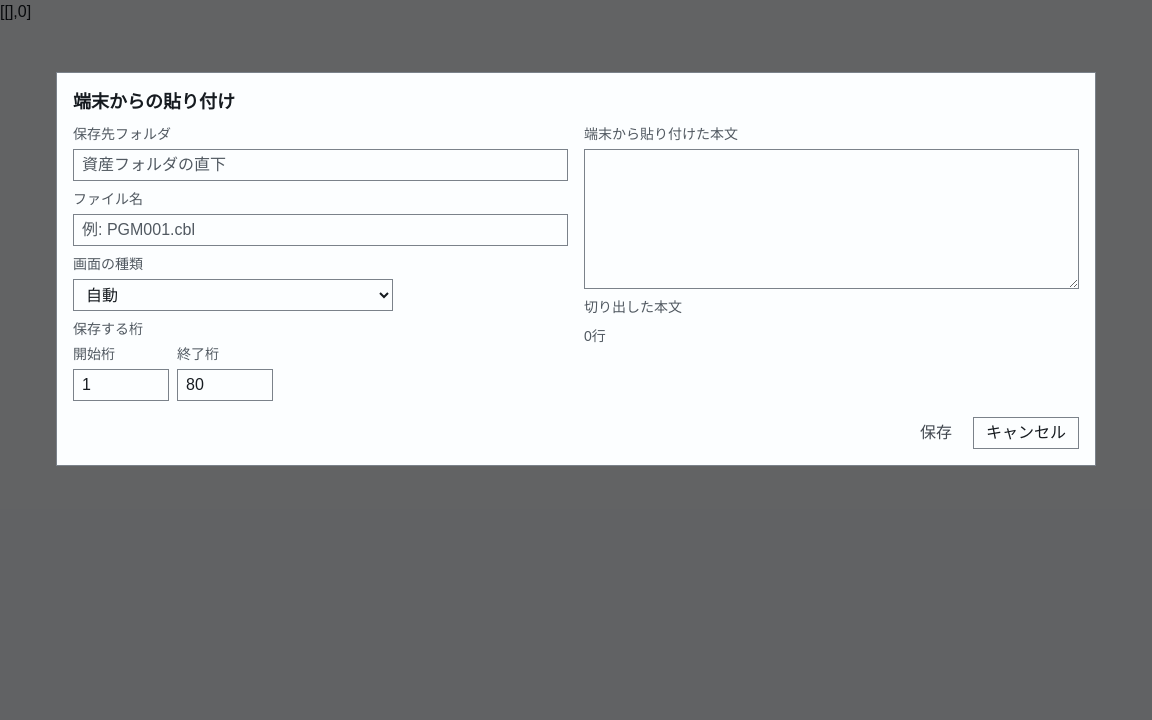
it: ImportDialog › saving › takes the confirmation away when the folder is edited after it was raised
The width and height of the screenshot is (1152, 720).
Type "       IDENTIFICATION DIVISION." into the text box with test id "import-paste".
click(832, 219); type("       IDENTIFICATION DIVISION.")  # box x1=584 y1=149 x2=1079 y2=289
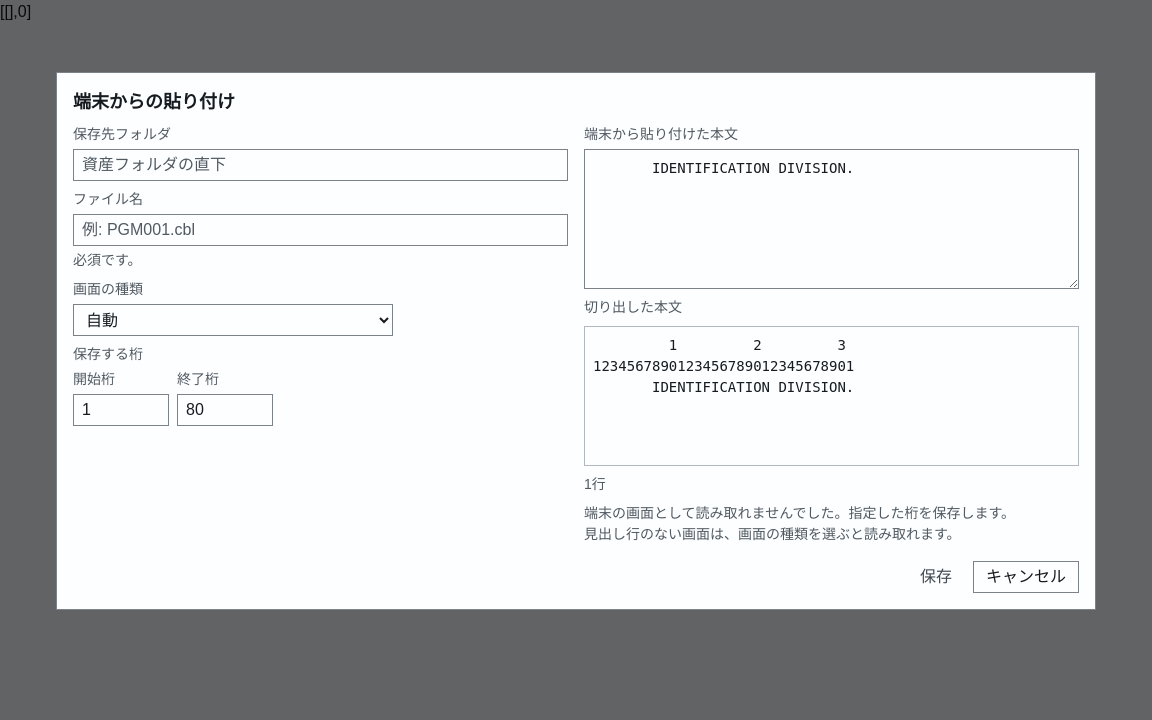
Type "A.cbl" into the field with test id "import-filename".
click(320, 230); type("A.cbl")  # box x1=73 y1=214 x2=568 y2=246
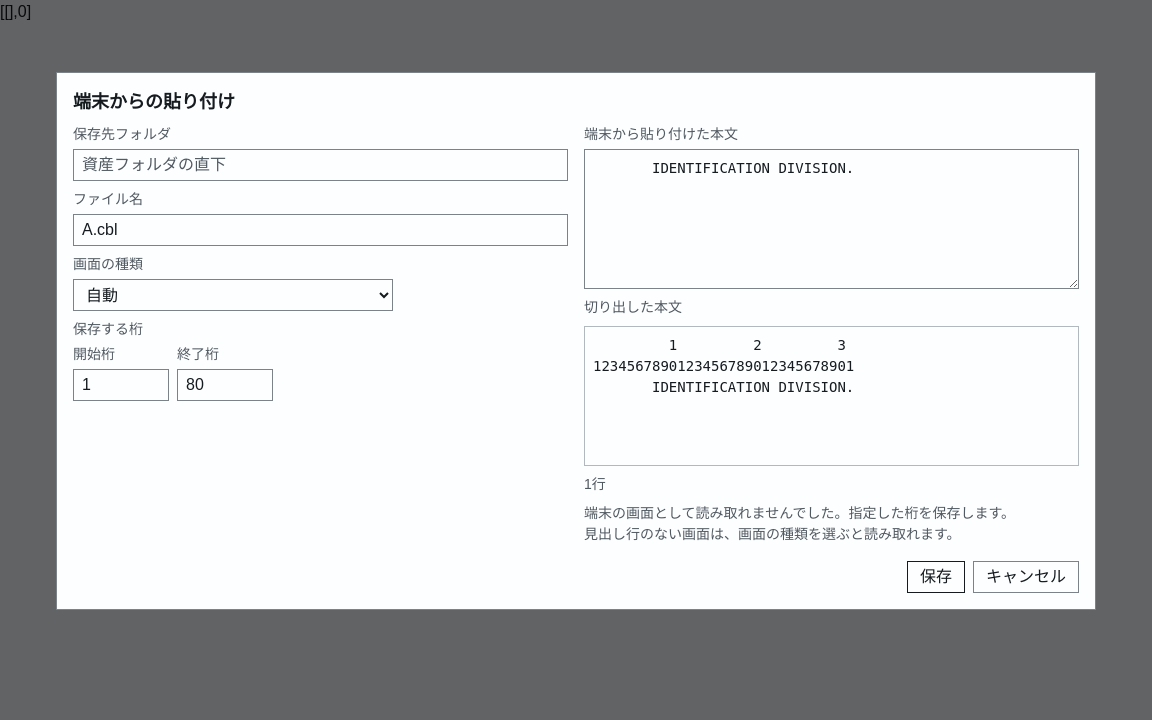
Click the button with test id "import-save".
click(936, 577)  # box x1=907 y1=561 x2=965 y2=593
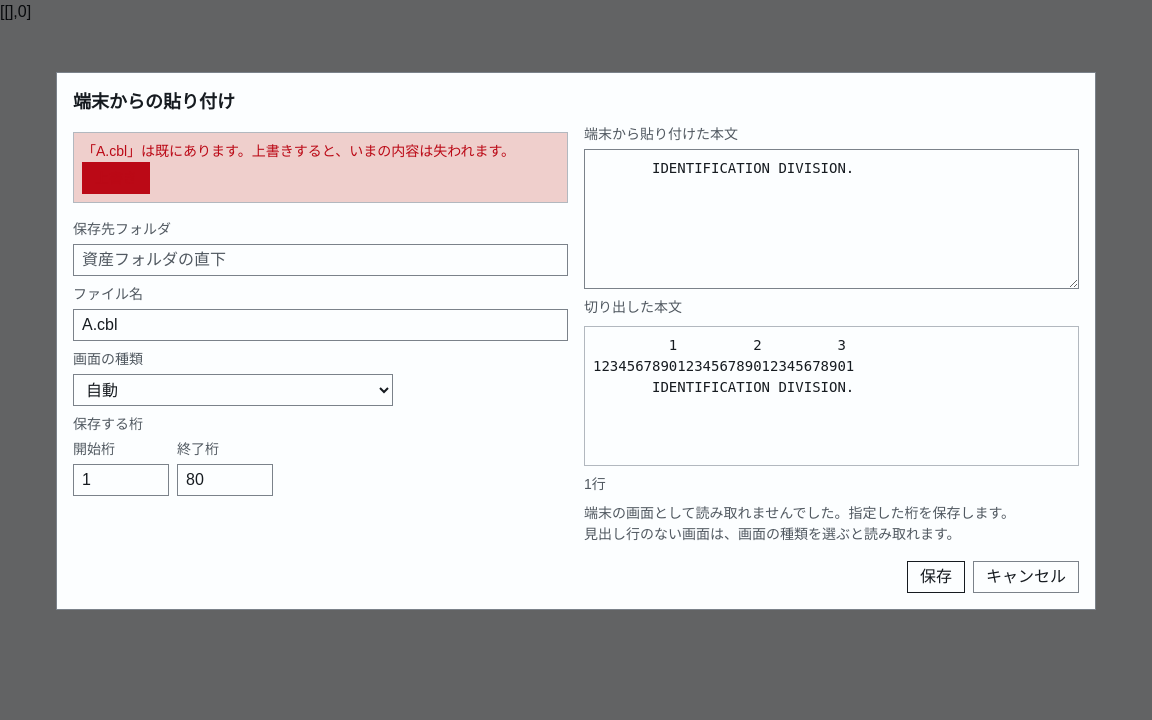
Result: the element with test id "import-confirm" is shown at x1=73 y1=132 x2=568 y2=203
Type "cobol" into the field with test id "import-destdir".
click(320, 260); type("cobol")  # box x1=73 y1=244 x2=568 y2=276
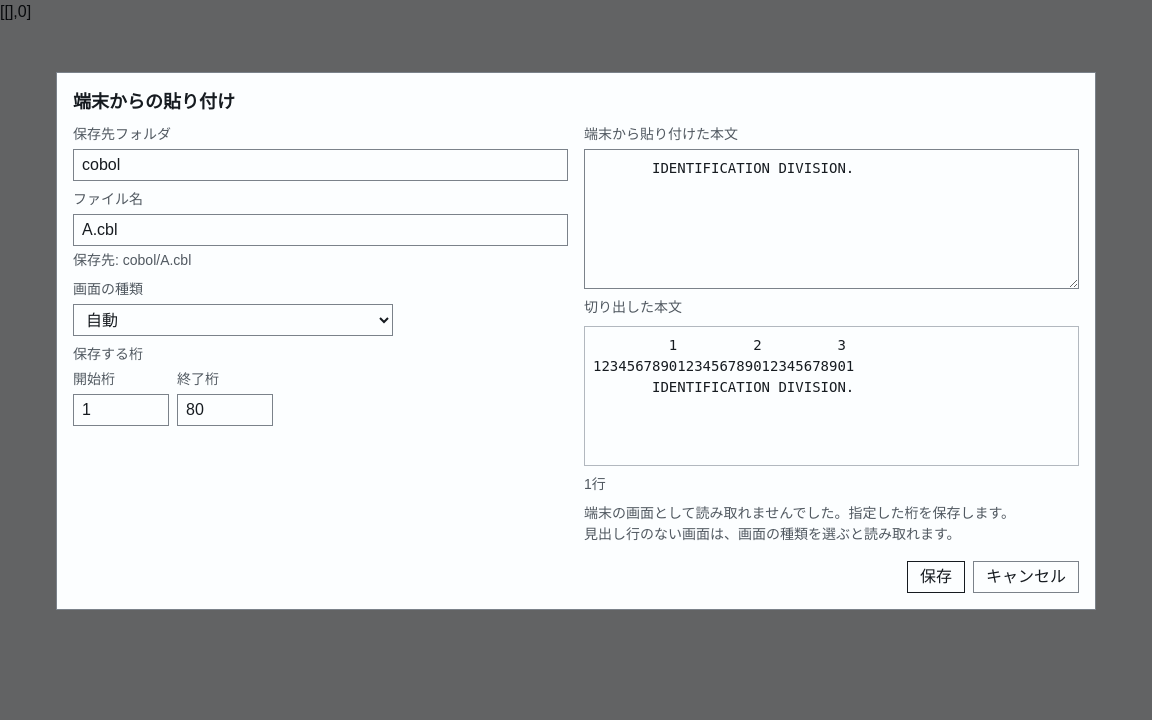
Result: the button with test id "import-save" is enabled at x1=907 y1=561 x2=965 y2=593
Result: the element with test id "import-confirm" is gone
Result: the button with test id "import-overwrite" is gone
